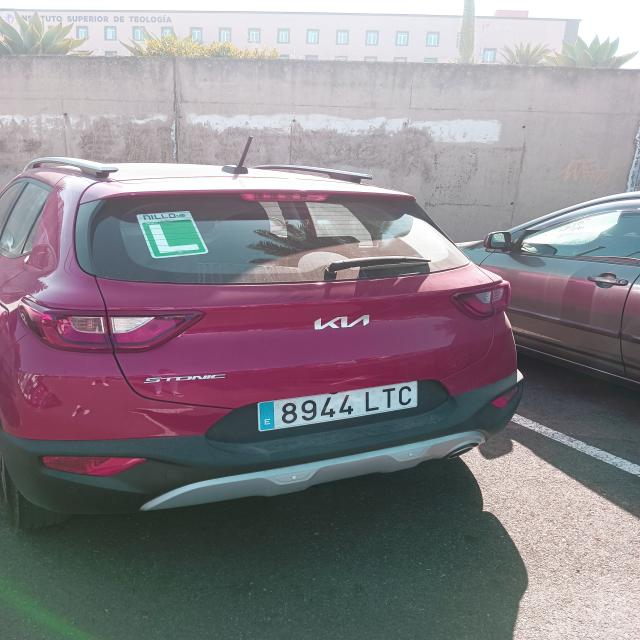football: (257, 381, 417, 431)
